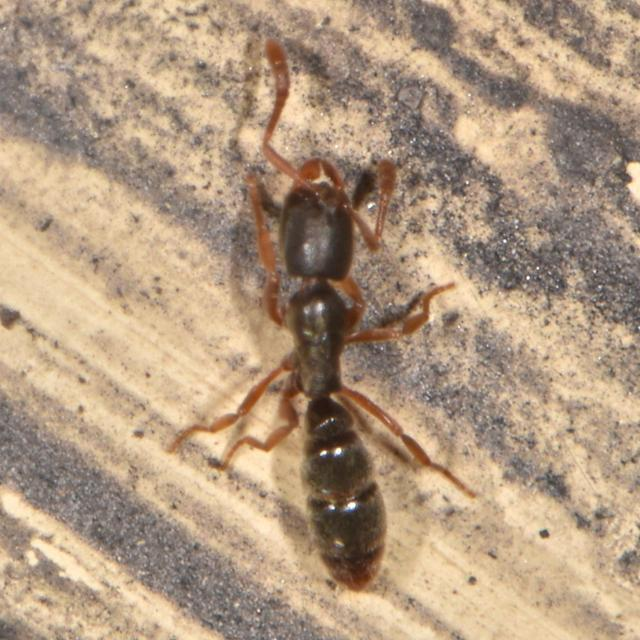Ponera: (200, 75, 448, 630)
